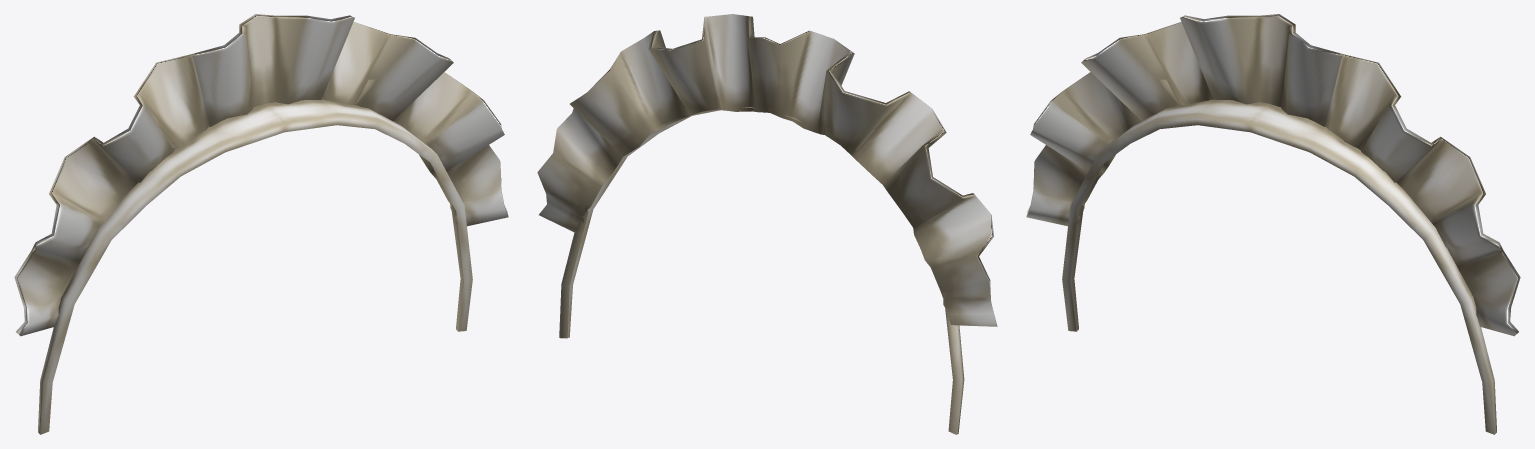
The model's file is Naoko_Hairband.fbx.
3 views of the same model, side by side, from view 1: azimuth 30°, elevation 25°; view 2: azimuth 150°, elevation 25°; view 3: azimuth 330°, elevation 25° (orthographic). The views are drawn at different scales.
Parts seen in each view (by area): view 1: Naoko_Hairband; view 2: Naoko_Hairband; view 3: Naoko_Hairband.
Part boxes in pixels (x1,y1,x2,y2): Naoko_Hairband: (14, 14, 508, 434); Naoko_Hairband: (537, 14, 997, 434); Naoko_Hairband: (1026, 14, 1520, 434).
Size of the model in its own units: 1.91 by 1.39 by 0.2497.
